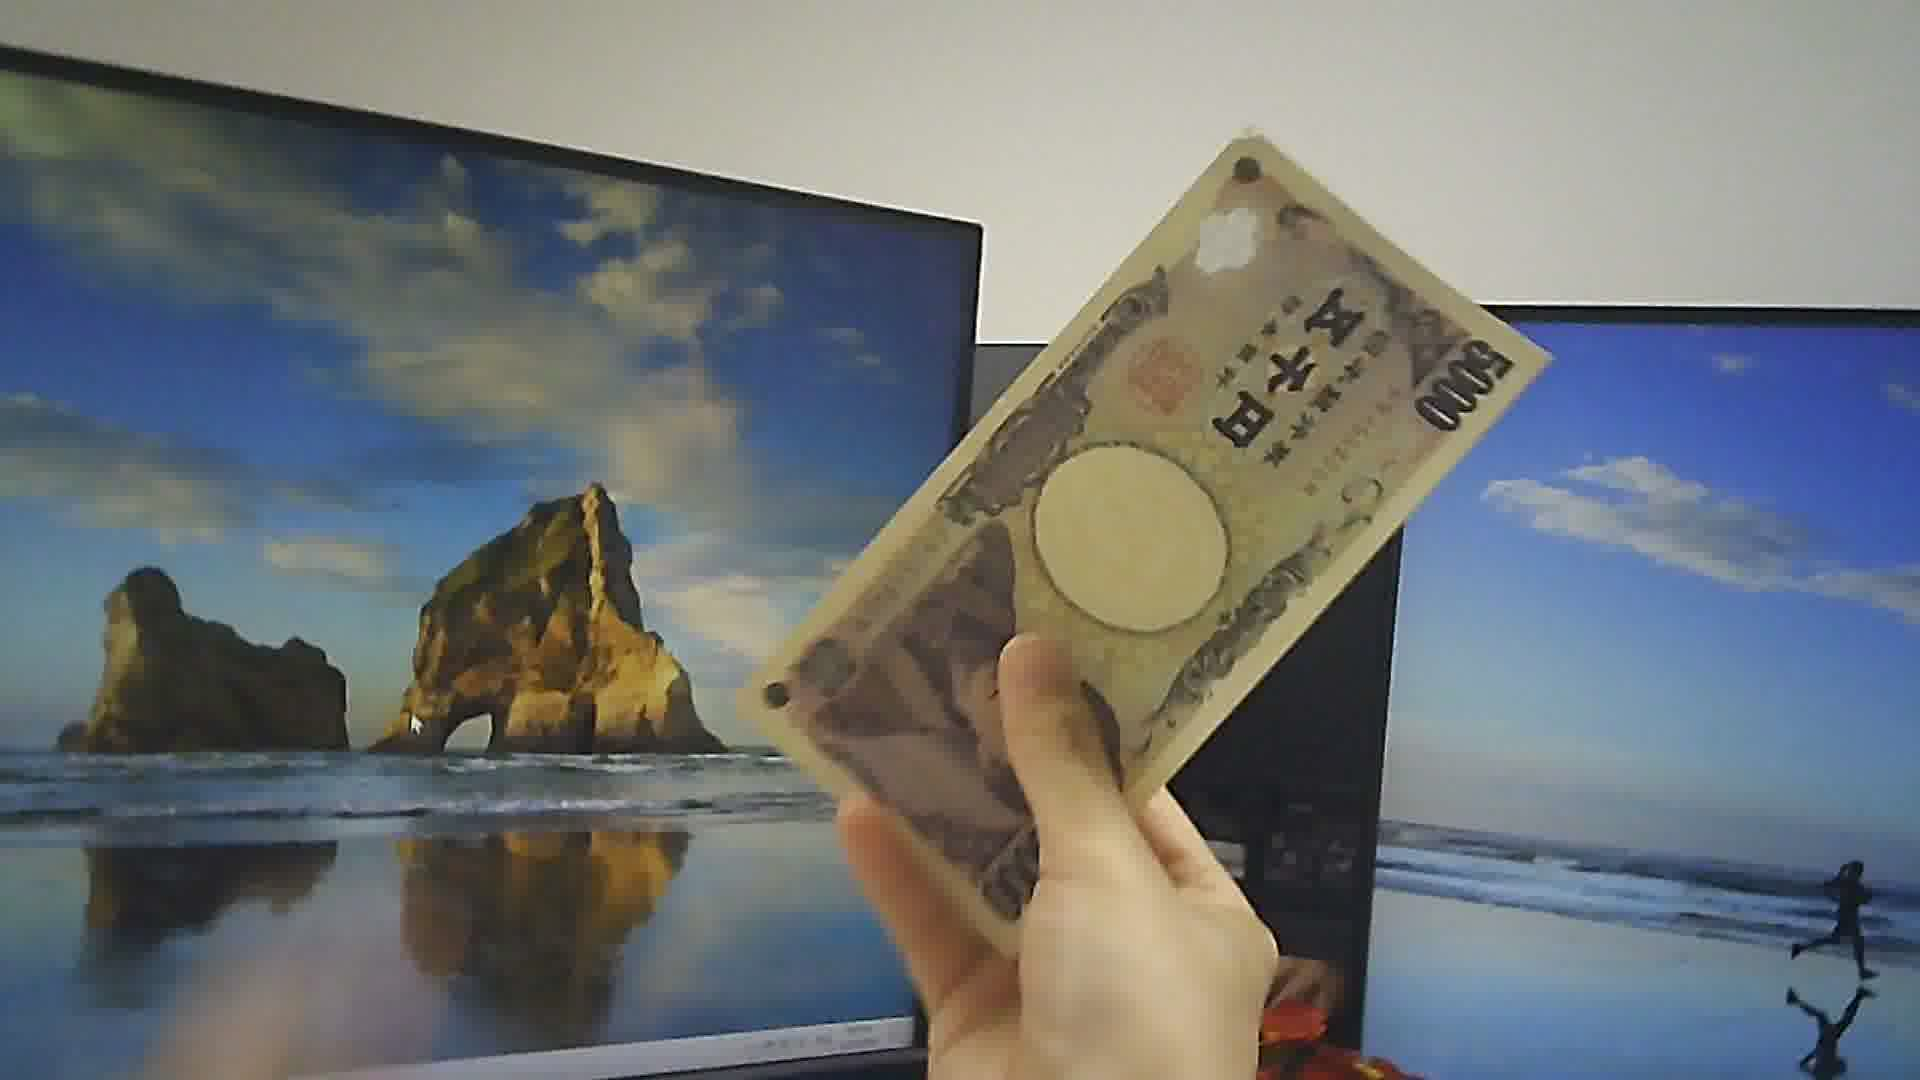5,000 Yen: (750, 135, 1571, 949)
